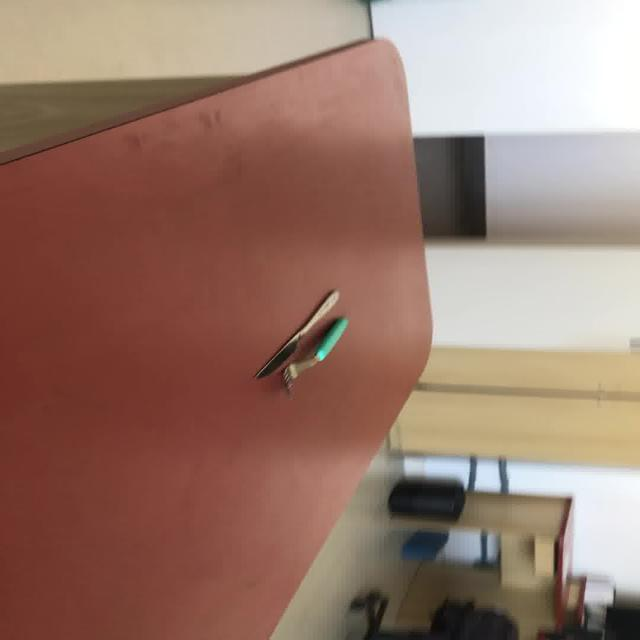fork: (280, 316, 349, 395)
knife fork: (251, 288, 339, 379)
